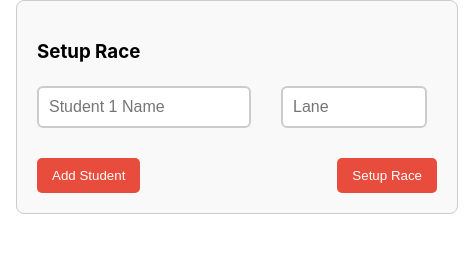
Scenario: RaceSetup Component › does not allow form submission with fewer than two students
Type "Alice" into the field with placeholder "Student 1 Name".
click(144, 107); type("Alice")  # box [37, 86, 251, 128]
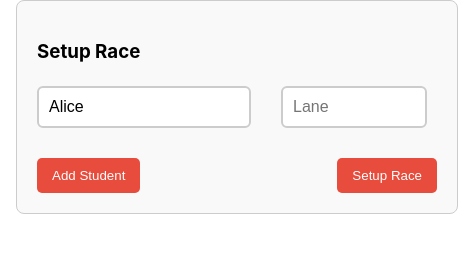
Type "1" into the number field with placeholder "Lane".
click(354, 107); type("1")  # box [281, 86, 427, 128]
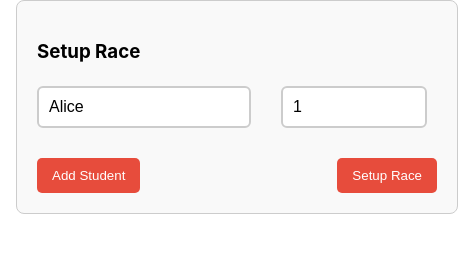
// Try to submit the form with only one student
Click the button "Setup Race".
click(387, 176)  # box [337, 158, 437, 193]
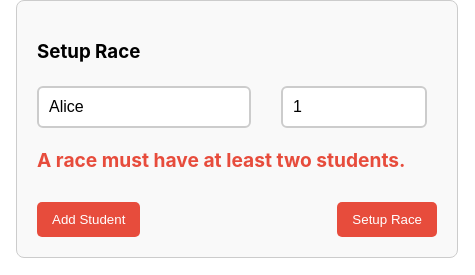
expect the text "A race must have at least two students." is shown: met, box [37, 148, 437, 172]
